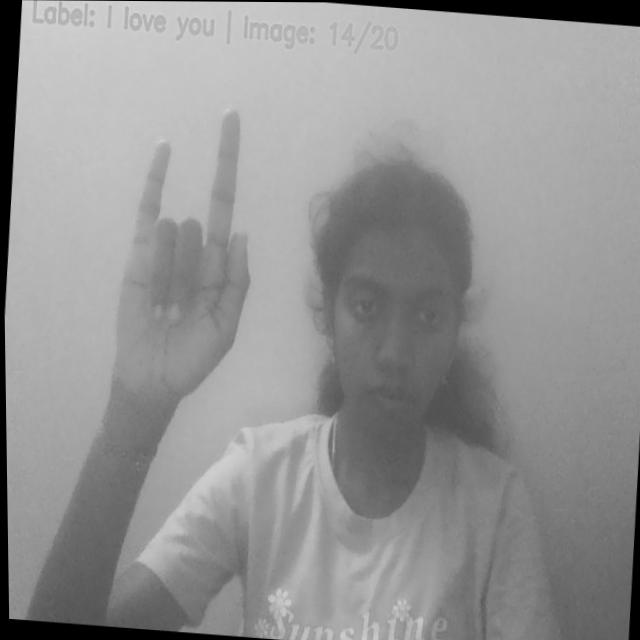I love you: (107, 100, 267, 413)
